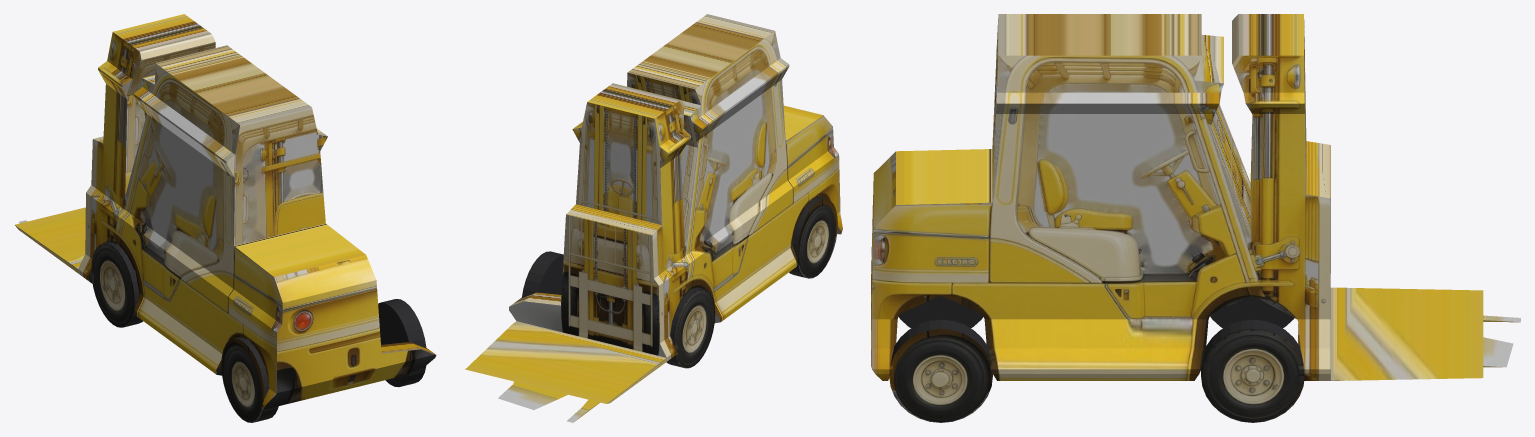
Rendered from forklift.glb.
3 renders of one model, left to right at view 1: azimuth 30°, elevation 25°; view 2: azimuth 150°, elevation 25°; view 3: azimuth 270°, elevation 25°, orthographic. The views are drawn at different scales.
Parts seen in each view (by area): view 1: forklift, wheel_BL, wheel_FL, wheel_BR; view 2: forklift, wheel_BL, wheel_FL, wheel_FR; view 3: forklift, wheel_BR, wheel_FR, wheel_BL, wheel_FL.
Part boxes in pixels (bbox=[...]): forklift: bbox=[15, 14, 436, 409]; wheel_BL: bbox=[221, 337, 278, 422]; wheel_FL: bbox=[91, 242, 142, 327]; wheel_BR: bbox=[378, 299, 426, 387]; forklift: bbox=[465, 14, 842, 422]; wheel_BL: bbox=[789, 197, 837, 278]; wheel_FL: bbox=[666, 287, 715, 368]; wheel_FR: bbox=[522, 251, 563, 297]; forklift: bbox=[871, 14, 1520, 380]; wheel_BR: bbox=[889, 319, 992, 422]; wheel_FR: bbox=[1201, 319, 1304, 422]; wheel_BL: bbox=[898, 295, 983, 328]; wheel_FL: bbox=[1210, 295, 1294, 328].
Bounding box in the file's own units: 1.17 × 1.82 × 3.29.
Materials: 3 (1 with a texture image).
